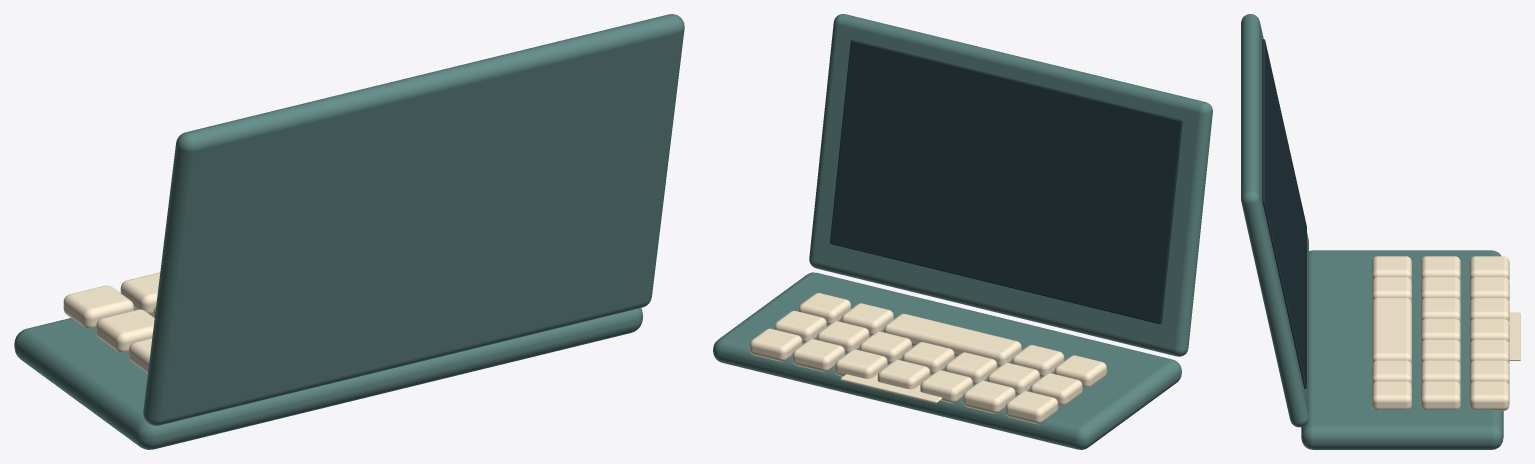
Rendered from laptop.glb.
3 views of the same model, side by side, from view 1: azimuth 30°, elevation 25°; view 2: azimuth 150°, elevation 25°; view 3: azimuth 270°, elevation 25° (orthographic). The views are drawn at different scales.
Parts seen in each view (by area): view 1: Laptop_plain_outer_lid, Laptop_base, Key_0_0, Key_1_0, Key_0_1; view 2: Laptop_inward_screen, Laptop_plain_outer_lid, Laptop_base, Key_space, Key_0_0, Key_0_6, Key_0_5, Key_0_1, Key_0_2, Key_0_4, Key_0_3, Key_1_0 (+11 smaller); view 3: Laptop_base, Laptop_plain_outer_lid, Laptop_inward_screen, Key_space, Key_0_6, Key_1_6, Key_bottom_3, Key_0_5, Key_1_5, Key_0_4, Key_1_3, Key_0_3 (+11 smaller).
Part boxes in pixels (x1=…): Laptop_plain_outer_lid: x1=143, y1=14, x2=684, y2=425; Laptop_base: x1=14, y1=308, x2=642, y2=449; Key_0_0: x1=63, y1=285, x2=133, y2=328; Key_1_0: x1=96, y1=309, x2=154, y2=352; Key_0_1: x1=120, y1=272, x2=160, y2=314; Laptop_inward_screen: x1=830, y1=40, x2=1182, y2=324; Laptop_plain_outer_lid: x1=809, y1=14, x2=1212, y2=356; Laptop_base: x1=713, y1=272, x2=1181, y2=449; Key_space: x1=883, y1=313, x2=1021, y2=366; Key_0_0: x1=1005, y1=391, x2=1058, y2=424; Key_0_6: x1=749, y1=328, x2=802, y2=361; Key_0_5: x1=792, y1=339, x2=844, y2=372; Key_0_1: x1=963, y1=380, x2=1015, y2=413; Key_0_2: x1=920, y1=370, x2=972, y2=403; Key_0_4: x1=835, y1=349, x2=887, y2=378; Key_0_3: x1=877, y1=360, x2=930, y2=389; Key_1_0: x1=1030, y1=373, x2=1082, y2=405; Laptop_base: x1=1301, y1=250, x2=1503, y2=449; Laptop_plain_outer_lid: x1=1241, y1=14, x2=1308, y2=427; Laptop_inward_screen: x1=1262, y1=39, x2=1306, y2=388; Key_space: x1=1372, y1=298, x2=1411, y2=364; Key_0_6: x1=1469, y1=381, x2=1509, y2=410; Key_1_6: x1=1420, y1=381, x2=1460, y2=409; Key_bottom_3: x1=1372, y1=381, x2=1411, y2=409; Key_0_5: x1=1469, y1=360, x2=1509, y2=385; Key_1_5: x1=1420, y1=360, x2=1460, y2=385; Key_0_4: x1=1469, y1=339, x2=1509, y2=364; Key_1_3: x1=1420, y1=318, x2=1460, y2=343; Key_0_3: x1=1469, y1=318, x2=1509, y2=343.
Size of the model in its own units: 1.25 by 0.8202 by 0.8028.
